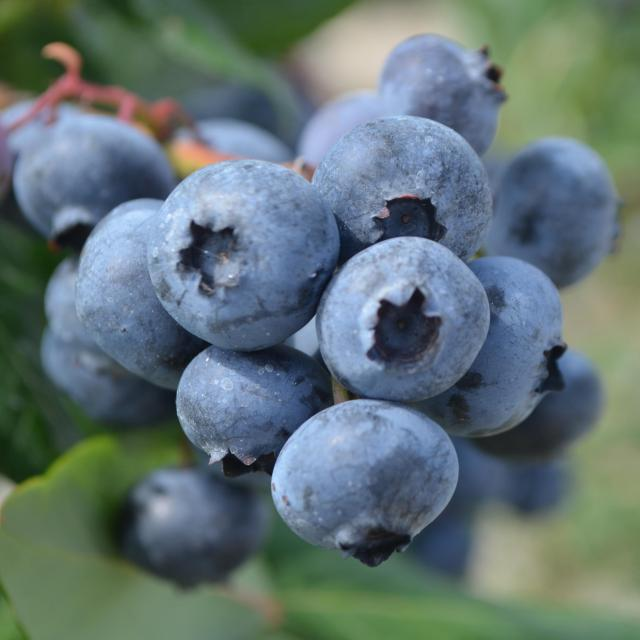BlueBerry - v1: (134, 152, 351, 356), (262, 392, 474, 578), (68, 177, 226, 409), (300, 232, 498, 415), (294, 101, 506, 271), (3, 104, 203, 261), (168, 327, 356, 490), (446, 241, 588, 456), (360, 23, 533, 178), (500, 112, 640, 303)
